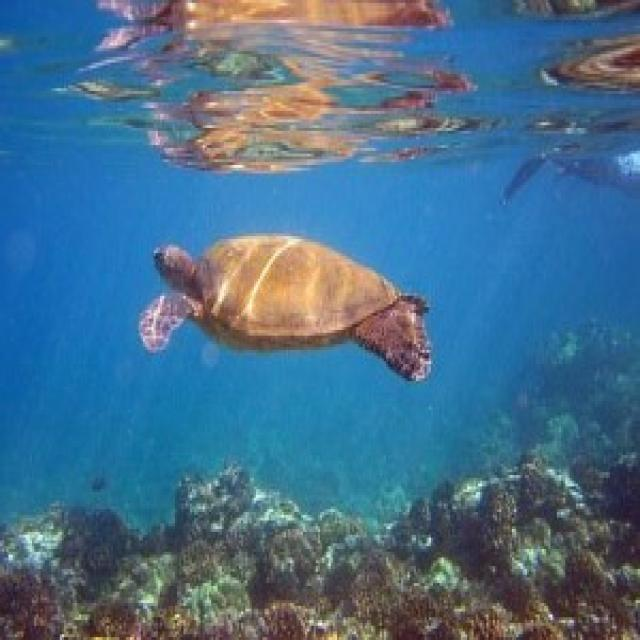Sea turtle: (105, 222, 454, 390)
